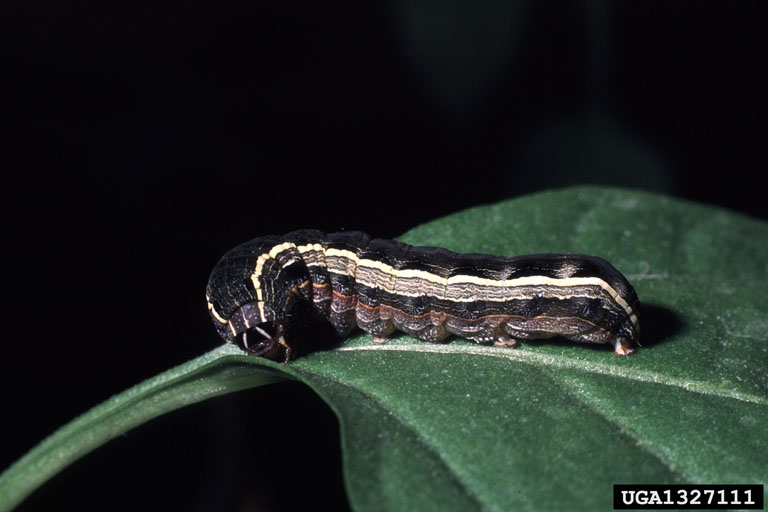Armyworm: (192, 223, 674, 356)
